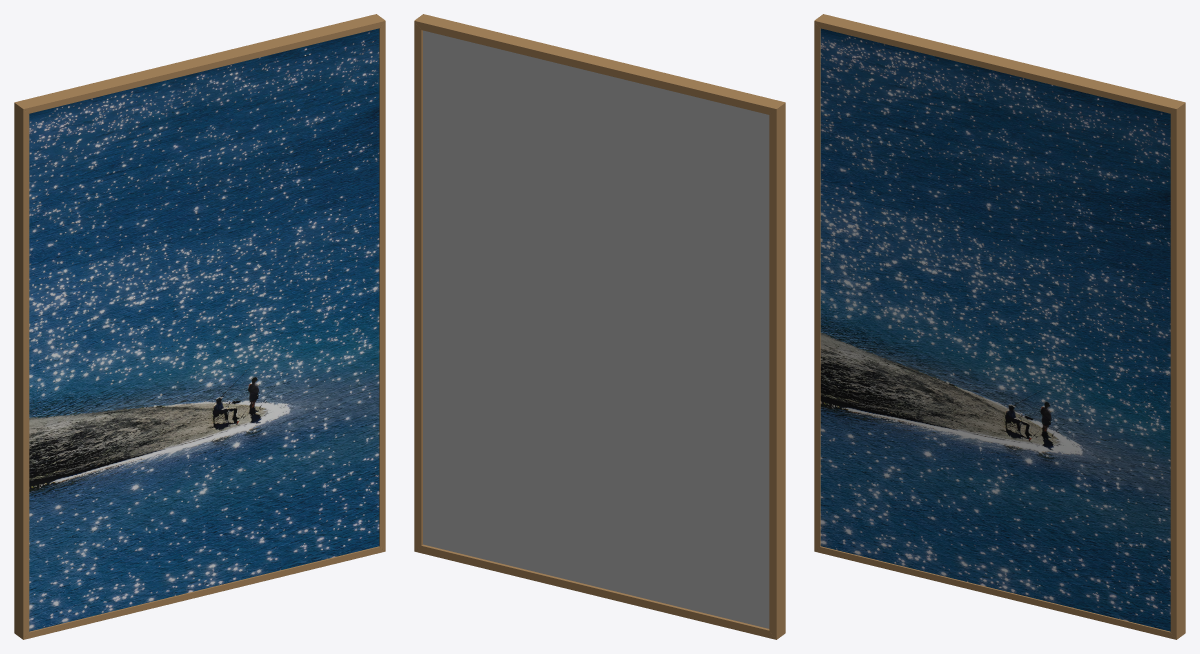
The picture shows the model from 3 angles, left to right: view 1: azimuth 30°, elevation 25°; view 2: azimuth 150°, elevation 25°; view 3: azimuth 330°, elevation 25°; orthographic projection.
Visible parts, largest first — view 1: wallart4827; view 2: wallart4827; view 3: wallart4827.
Part boxes in pixels (x1=…): wallart4827: x1=14, y1=14, x2=385, y2=639; wallart4827: x1=414, y1=14, x2=785, y2=639; wallart4827: x1=814, y1=14, x2=1185, y2=639.
Size of the model in its own units: 0.4999 by 0.6997 by 0.022.
1 material, 1 textured.
